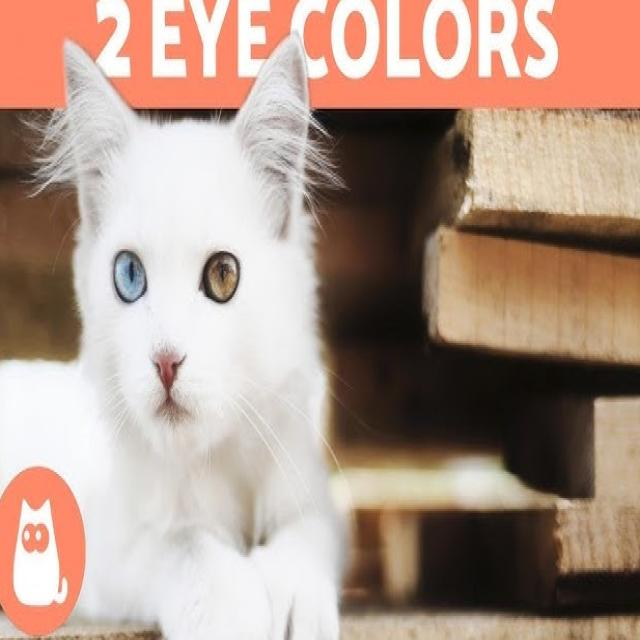Khao Manee: (0, 26, 352, 640)
